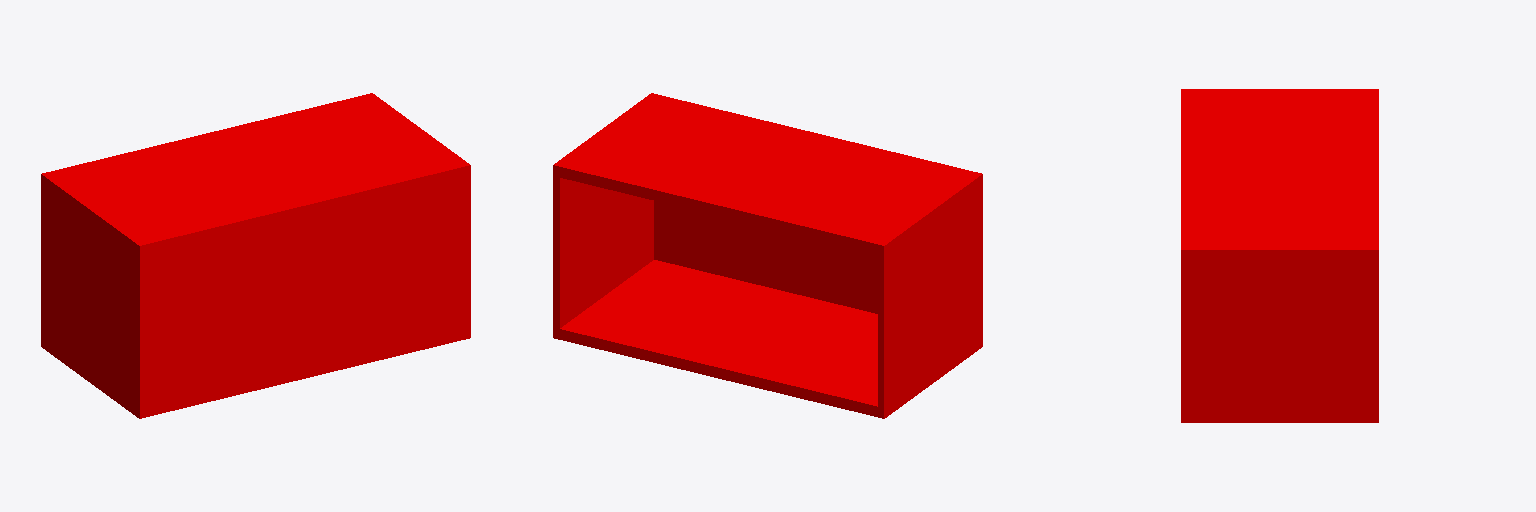
3 views of the same model, side by side, from view 1: azimuth 30°, elevation 25°; view 2: azimuth 150°, elevation 25°; view 3: azimuth 270°, elevation 25° (orthographic).
Visible parts, largest first — view 1: drewno1_mesh cabinet_13he_41; view 2: drewno1_mesh cabinet_13he_41; view 3: drewno1_mesh cabinet_13he_41.
Boxes of the visible parts, x1,y1,x2,y2 form: drewno1_mesh cabinet_13he_41: [41, 93, 470, 418]; drewno1_mesh cabinet_13he_41: [553, 93, 982, 418]; drewno1_mesh cabinet_13he_41: [1181, 89, 1378, 422].
Bounding box in the file's own units: 80 × 39.9 × 41.2.